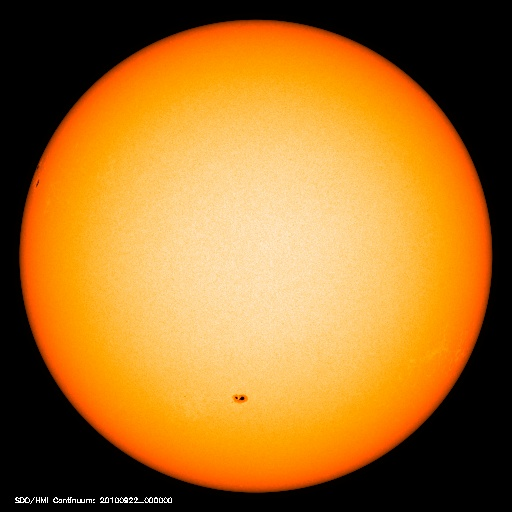sunspot: (26, 158, 54, 197), (223, 387, 260, 412)
